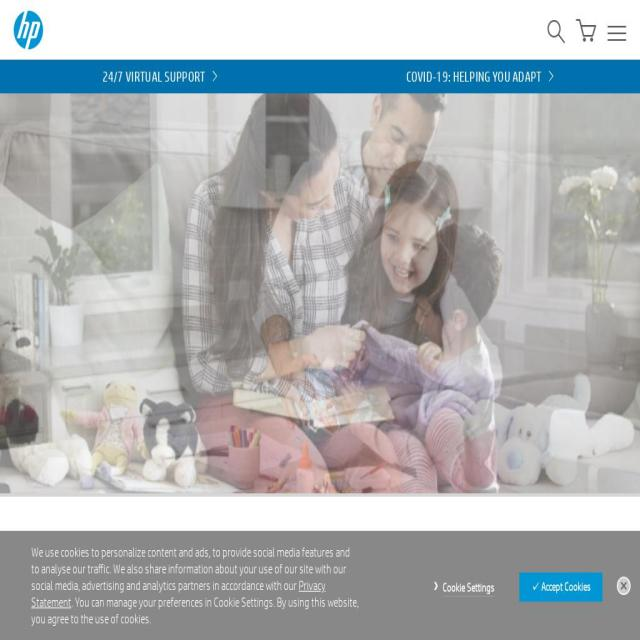button: (397, 60, 563, 93), (93, 60, 227, 93), (20, 605, 90, 639), (531, 586, 591, 602), (442, 588, 494, 604), (576, 17, 598, 45), (546, 21, 567, 47)
heading: (19, 529, 326, 555)
image: (0, 493, 493, 497), (621, 584, 634, 602)
link: (31, 585, 326, 619)
text: (31, 552, 350, 602), (31, 602, 359, 636), (19, 558, 320, 580), (404, 62, 556, 93), (101, 62, 220, 93), (40, 606, 70, 640)
